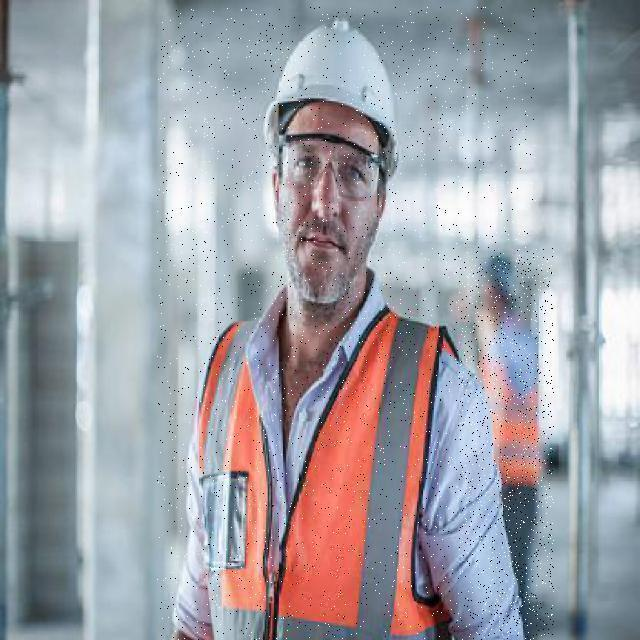goggles: (273, 134, 389, 201)
helmet: (263, 17, 401, 180)
safety_vest: (197, 304, 458, 640), (477, 330, 544, 490)
